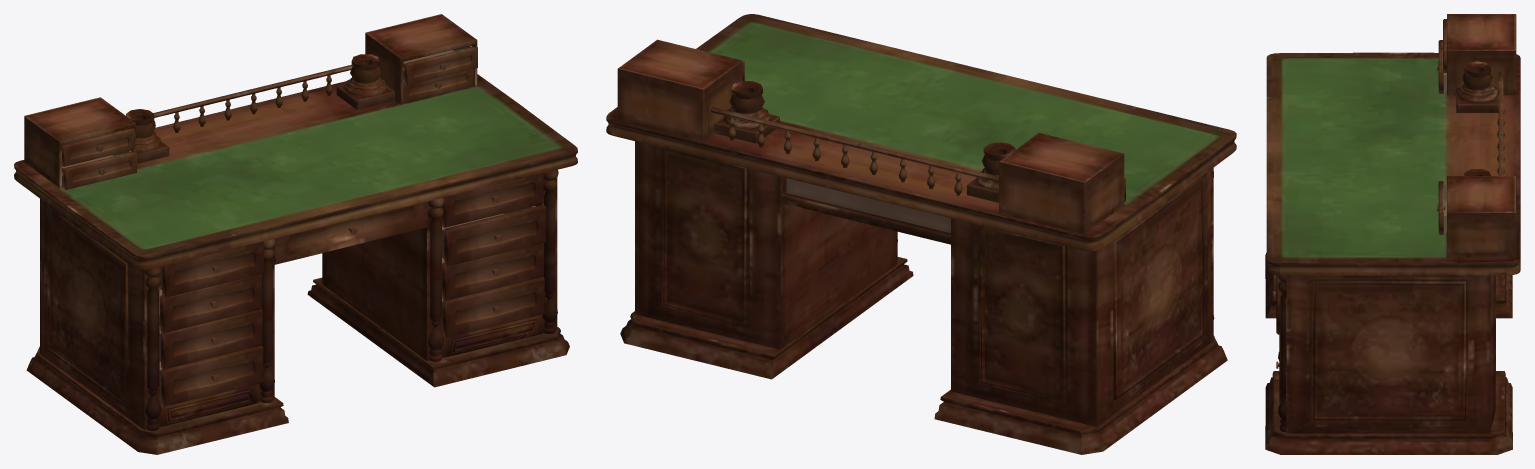
File: SM_Table_1_comb_226695.glb
3 views of the same model, side by side, from view 1: azimuth 30°, elevation 25°; view 2: azimuth 150°, elevation 25°; view 3: azimuth 270°, elevation 25° (orthographic). The views are drawn at different scales.
Size of the model in its own units: 1.8 by 0.9544 by 0.9213.
1 material, 1 textured.
